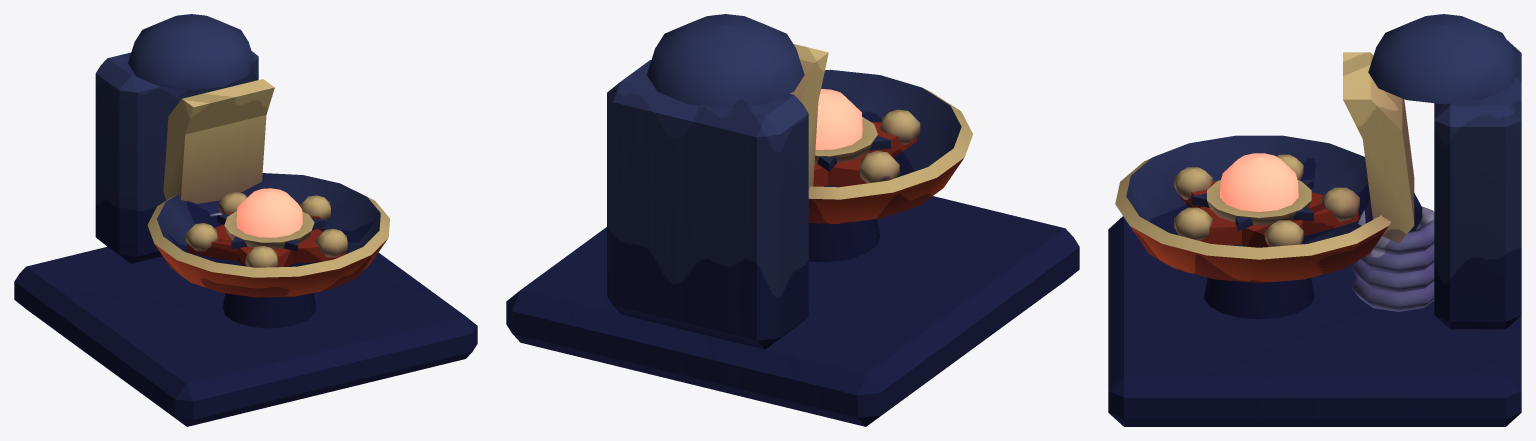
Rendered from R4X_ExplosiveTrapDeployer_LOD1.glb.
The picture shows the model from 3 angles, left to right: view 1: azimuth 30°, elevation 25°; view 2: azimuth 150°, elevation 25°; view 3: azimuth 270°, elevation 25°; orthographic projection. The views are drawn at different scales.
Parts seen in each view (by area): view 1: R4X_ExplosiveTrapDeployer_LOD1; view 2: R4X_ExplosiveTrapDeployer_LOD1; view 3: R4X_ExplosiveTrapDeployer_LOD1.
Boxes of the visible parts, left/top/right/bottom form: R4X_ExplosiveTrapDeployer_LOD1: left=14, top=14, right=477, bottom=426; R4X_ExplosiveTrapDeployer_LOD1: left=506, top=14, right=1079, bottom=426; R4X_ExplosiveTrapDeployer_LOD1: left=1108, top=14, right=1521, bottom=426.
Size of the model in its own units: 0.52 by 0.446 by 0.52.
Materials: 5 (4 with a texture image).
